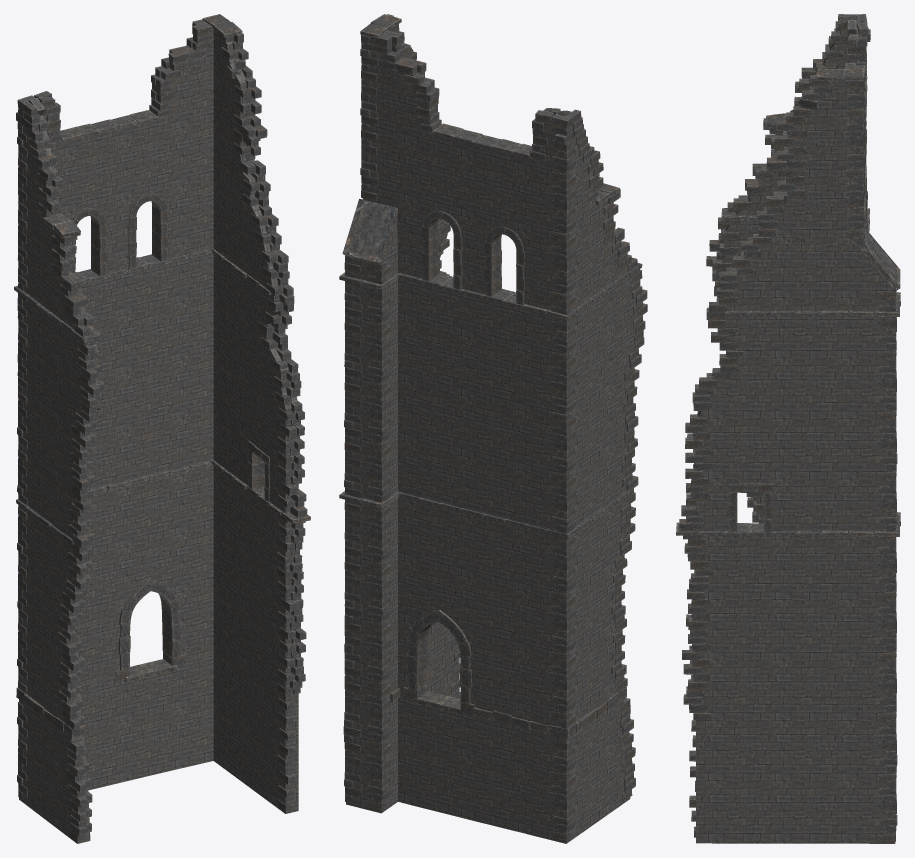
Rendered from Tower_04.fbx.
3 renders of one model, left to right at view 1: azimuth 30°, elevation 25°; view 2: azimuth 150°, elevation 25°; view 3: azimuth 270°, elevation 25°, orthographic. The views are drawn at different scales.
Parts seen in each view (by area): view 1: StoneWall, StoneBricks; view 2: StoneWall, StoneBricks; view 3: StoneWall, StoneBricks.
Boxes of the visible parts, box(x1,y1,x2,y2) form: StoneWall: box(19, 28, 298, 843); StoneBricks: box(14, 14, 310, 841); StoneWall: box(346, 29, 638, 843); StoneBricks: box(339, 14, 647, 841); StoneWall: box(696, 18, 895, 843); StoneBricks: box(676, 14, 900, 841).
Size of what is drawn, in the model's own units: 538 by 1825 by 485.
